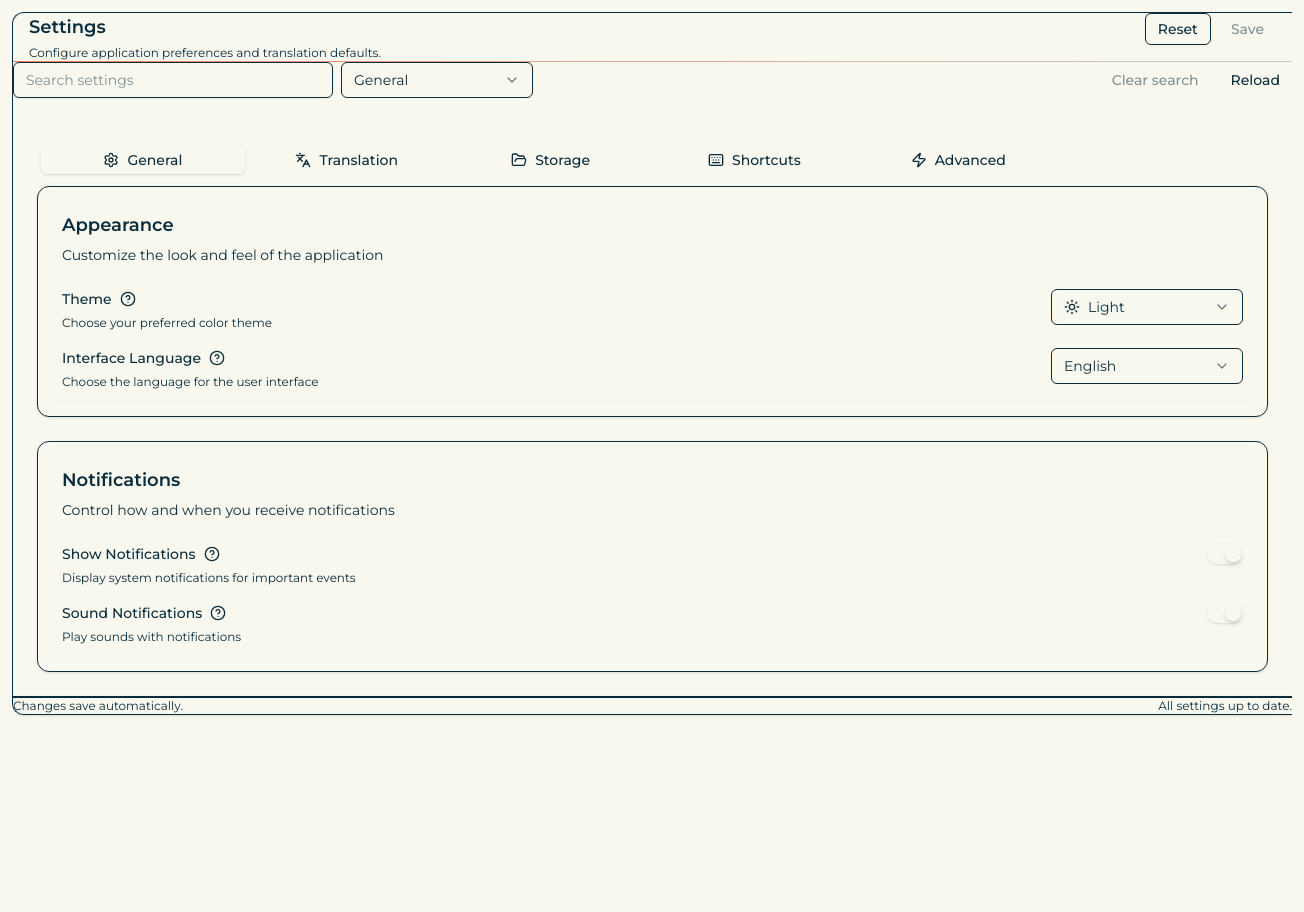
Scenario: EnhancedAppSettingsPanel › updates theme via the auto-save flow
expect the text "Appearance" is shown: met, box 62,214 -> 174,236
Click the dropdown labelled "Light". click: {"x": 1147, "y": 306}
box: 1051,288 -> 1243,324
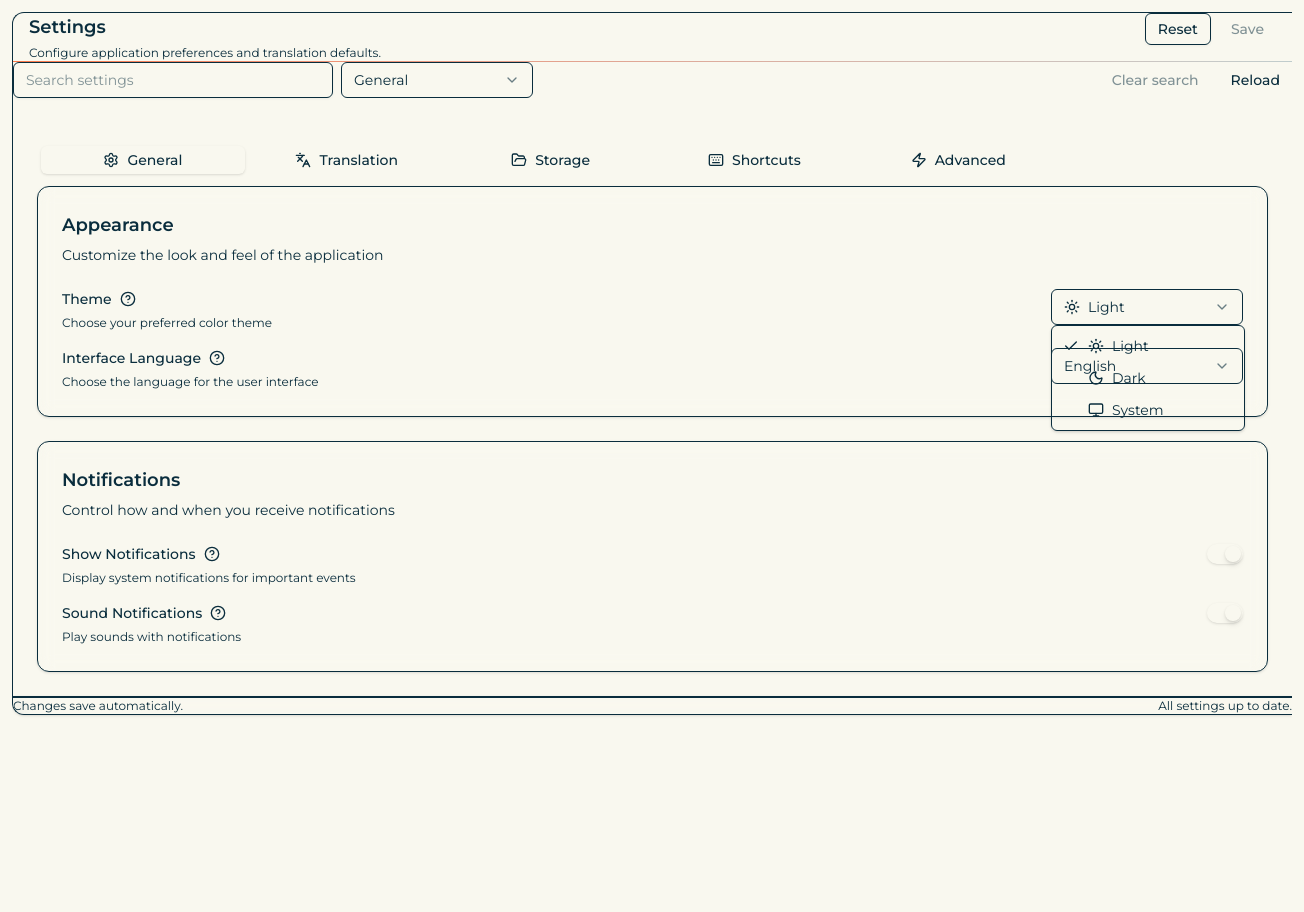
Click the option "Dark". click: {"x": 1117, "y": 378}
box: 1088,369 -> 1146,387
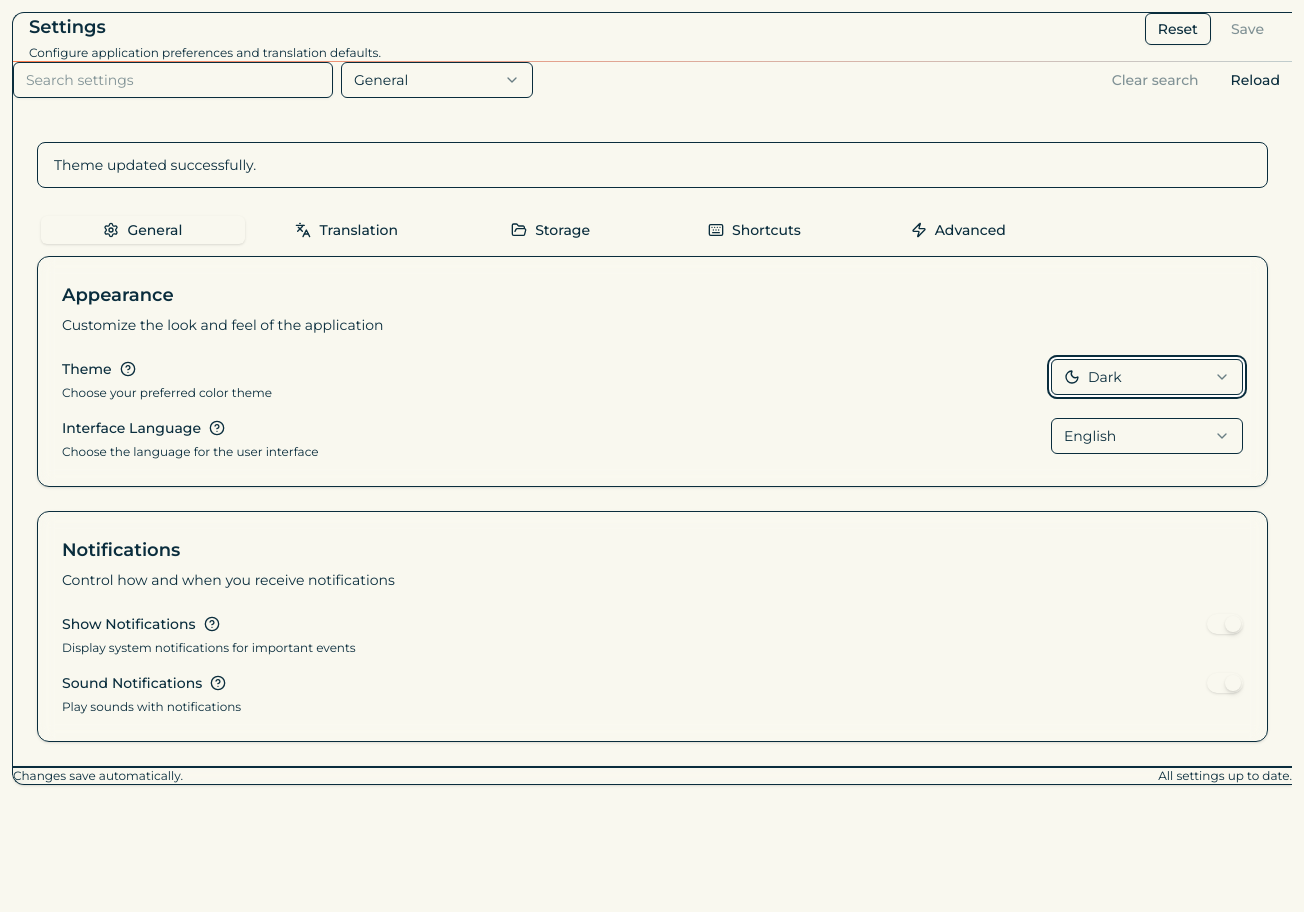
expect the text "Theme updated successfully." is shown: met, box 54,156 -> 256,174
